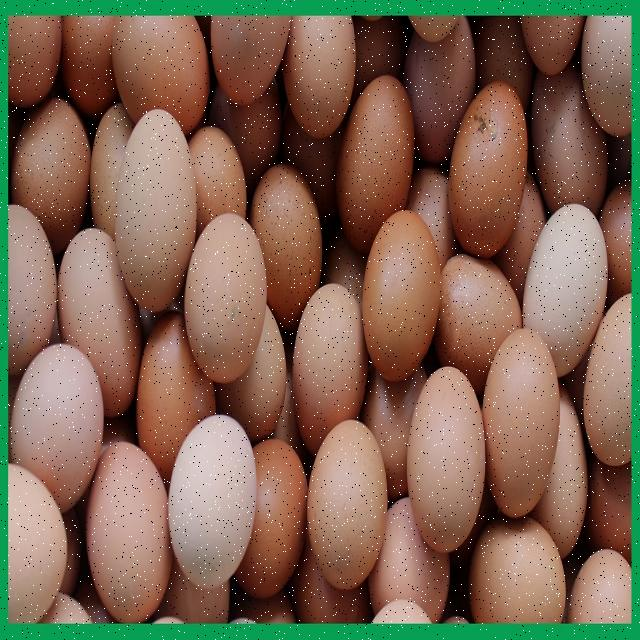Egg: (164, 380, 268, 606), (359, 146, 439, 410), (304, 407, 398, 621), (105, 100, 197, 317), (432, 67, 525, 255), (2, 332, 104, 499), (183, 196, 266, 370), (413, 368, 485, 568), (488, 330, 561, 524), (346, 71, 404, 237), (261, 172, 322, 300)
